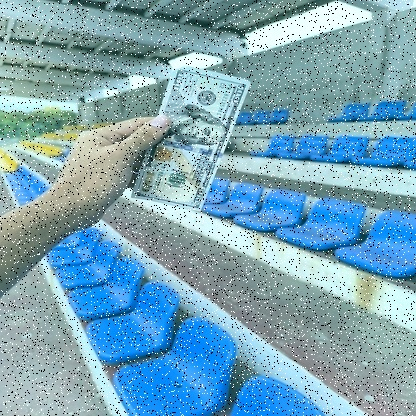one_hundred-front: (123, 62, 253, 212)
